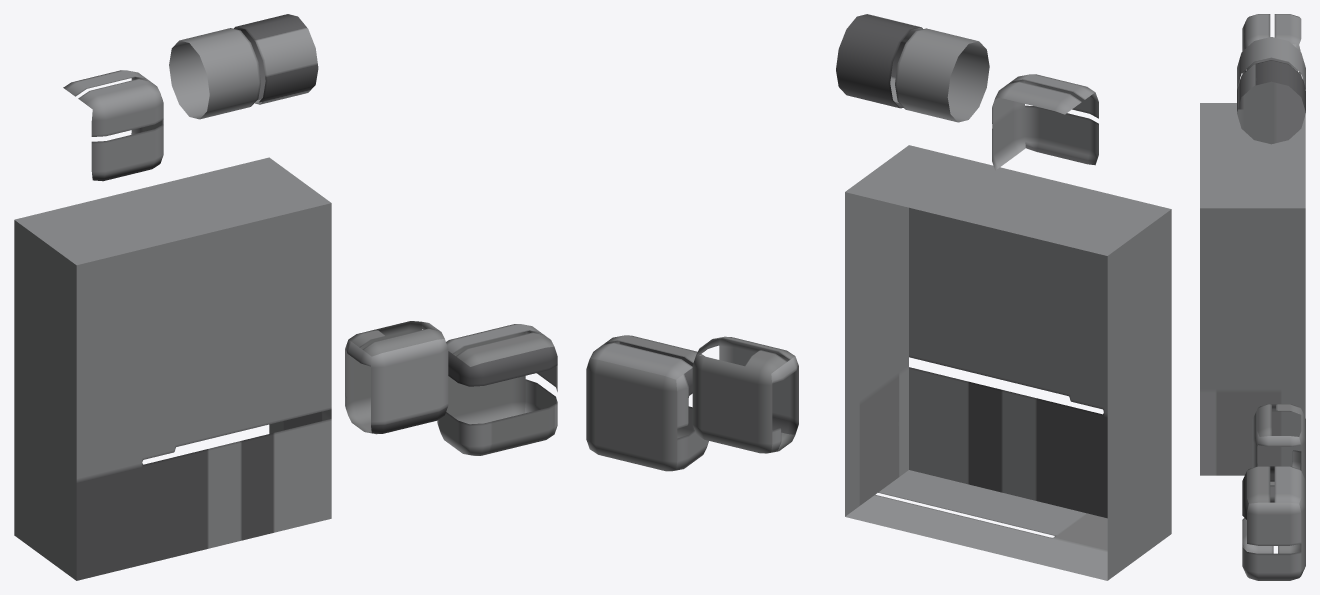
3 views of the same model, side by side, from view 1: azimuth 30°, elevation 25°; view 2: azimuth 150°, elevation 25°; view 3: azimuth 270°, elevation 25° (orthographic). The views are drawn at different scales.
Bounding box in the file's own units: 0.9453 × 0.835 × 0.1993.
